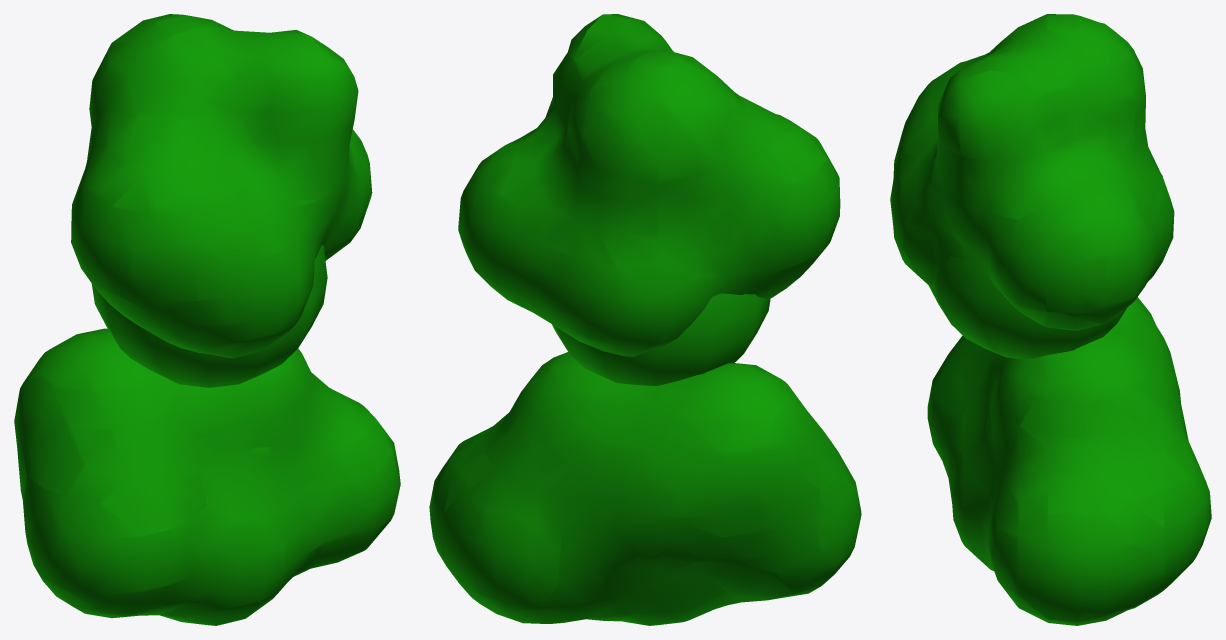
Rendered from SimpleTrees.fbx.
3 renders of one model, left to right at view 1: azimuth 30°, elevation 25°; view 2: azimuth 150°, elevation 25°; view 3: azimuth 270°, elevation 25°, orthographic. The views are drawn at different scales.
Visible parts, largest first — view 1: Mball.007, Cylinder.004, Cylinder.003; view 2: Mball.007, Cylinder.004, Cylinder.003; view 3: Cylinder.004, Mball.007, Cylinder.003.
Part boxes in pixels (x1=…): Mball.007: x1=14, y1=328, x2=400, y2=625; Cylinder.004: x1=71, y1=14, x2=372, y2=358; Cylinder.003: x1=91, y1=244, x2=327, y2=387; Mball.007: x1=429, y1=352, x2=861, y2=625; Cylinder.004: x1=458, y1=14, x2=840, y2=356; Cylinder.003: x1=552, y1=293, x2=770, y2=385; Cylinder.004: x1=890, y1=14, x2=1174, y2=330; Mball.007: x1=927, y1=297, x2=1211, y2=625; Cylinder.003: x1=929, y1=256, x2=1126, y2=359.
Size of the model in its own units: 573 by 833 by 445.
